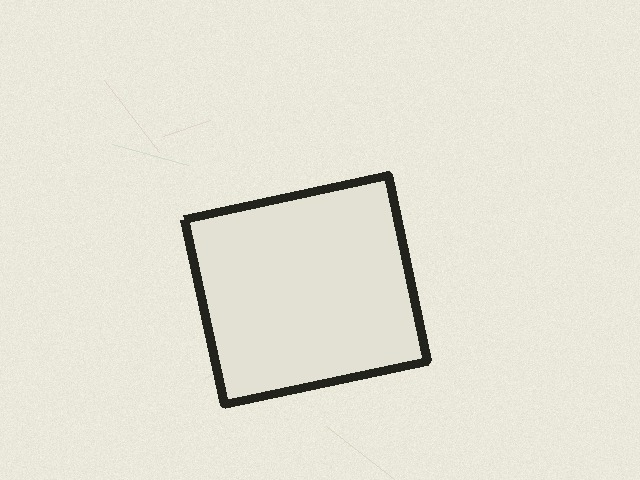parking_area: (184, 175, 427, 404)
